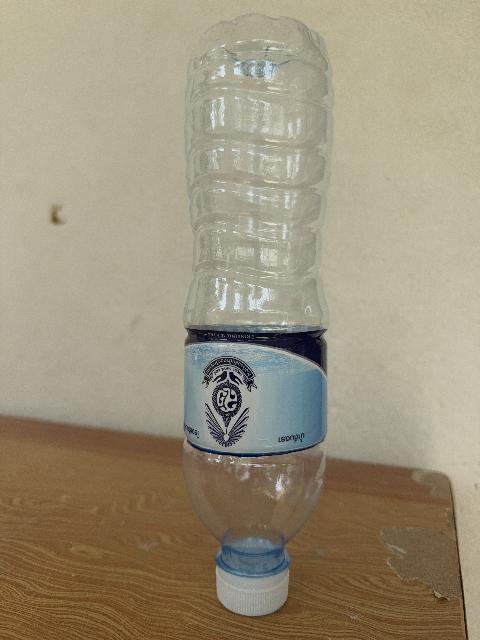bottle: (184, 15, 332, 615)
